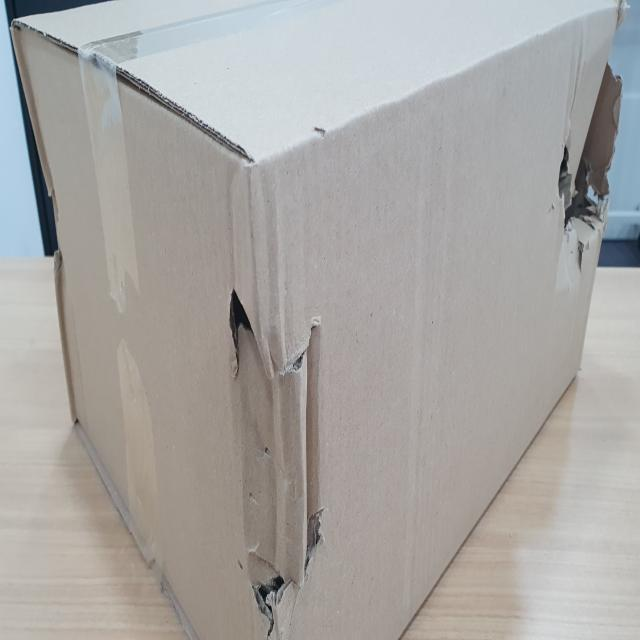hole: (224, 279, 329, 639), (554, 68, 624, 290)
